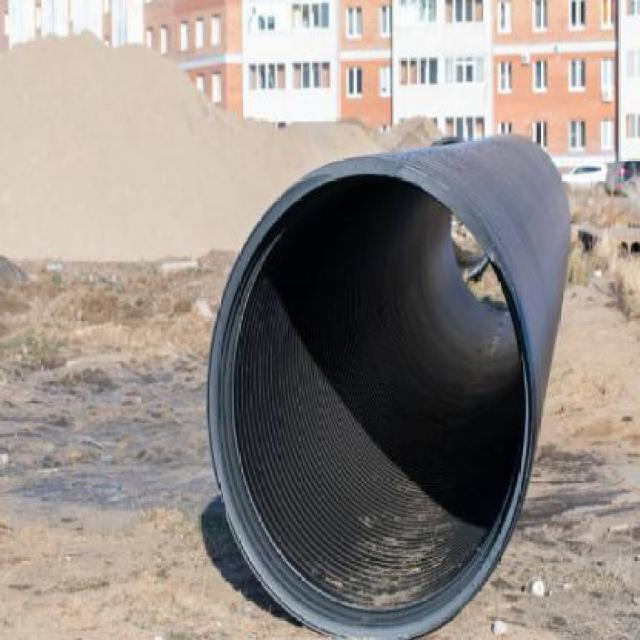pipe: (206, 160, 535, 639)
